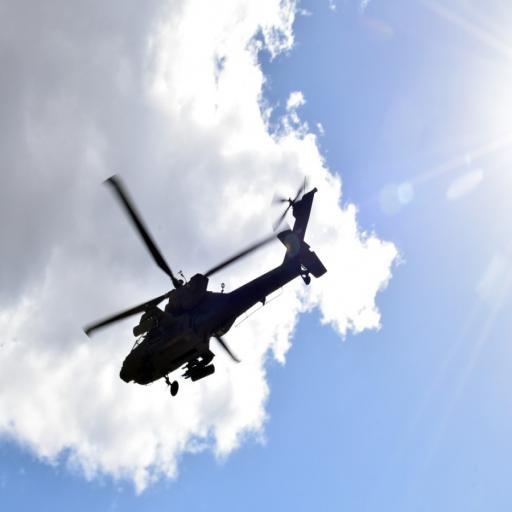helicopter: (57, 138, 354, 437)
